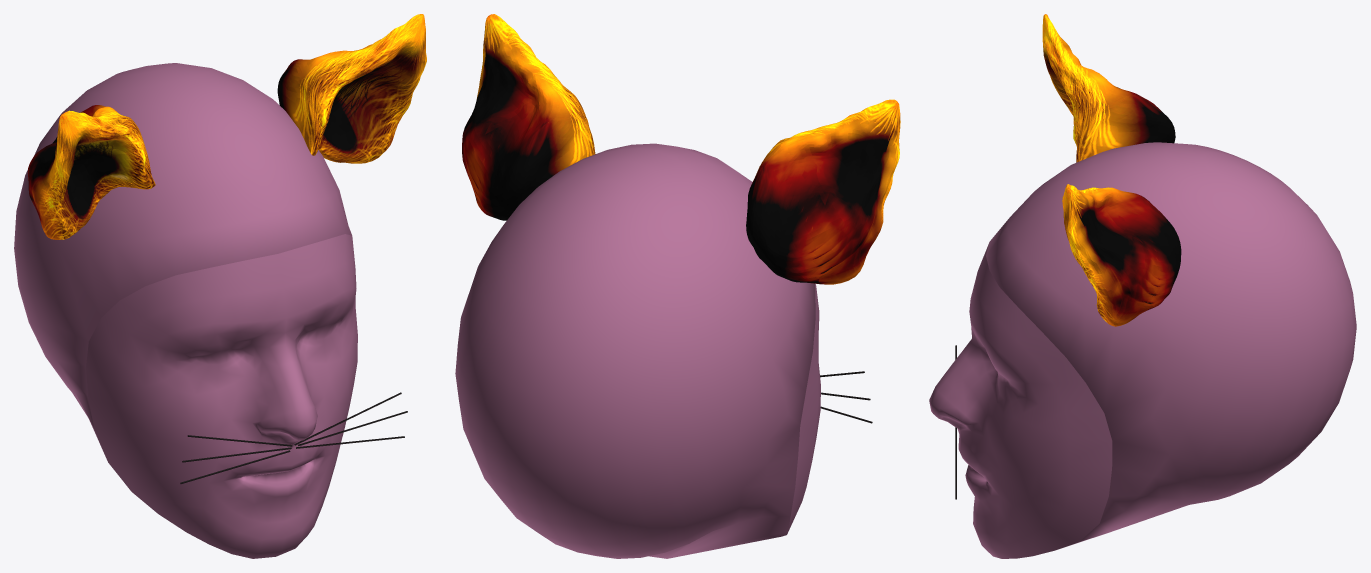
File: Cat.glb
3 views of the same model, side by side, from view 1: azimuth 30°, elevation 25°; view 2: azimuth 150°, elevation 25°; view 3: azimuth 270°, elevation 25° (orthographic). The views are drawn at different scales.
Visible parts, largest first — view 1: OccluderFace, OccluderHead, CatEarR, CatEarL, CatWiskers; view 2: OccluderHead, CatEarL, CatEarR, OccluderFace; view 3: OccluderHead, OccluderFace, CatEarR, CatEarL.
Boxes of the visible parts, x1,y1,x2,y2 form: OccluderFace: (86, 234, 357, 558); OccluderHead: (14, 63, 351, 456); CatEarR: (277, 14, 426, 163); CatEarL: (27, 105, 155, 239); CatWiskers: (180, 392, 407, 483); OccluderHead: (455, 143, 815, 558); CatEarL: (746, 99, 900, 284); CatEarR: (462, 14, 595, 220); OccluderFace: (787, 283, 820, 533); OccluderHead: (986, 142, 1356, 549); OccluderFace: (929, 242, 1112, 558); CatEarR: (1062, 184, 1181, 326); CatEarL: (1042, 14, 1175, 162).
Bounding box in the file's own units: 0.2315 × 0.2714 × 0.2341.
3 materials, 1 textured.
